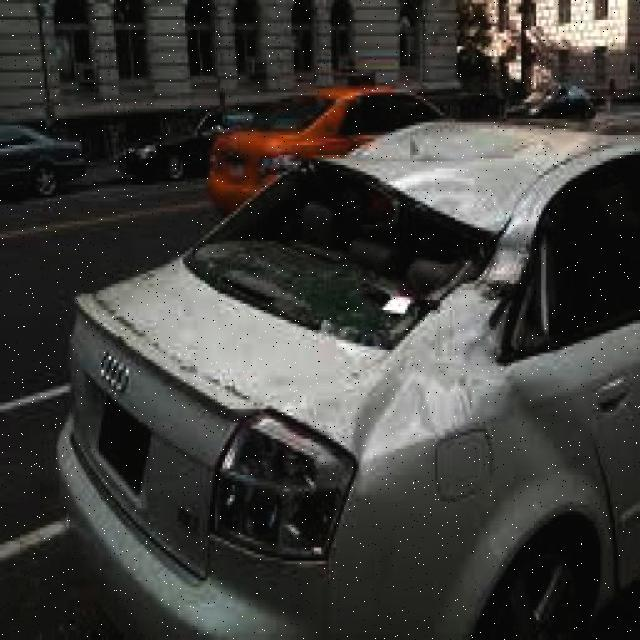car damage: (184, 129, 583, 448)
